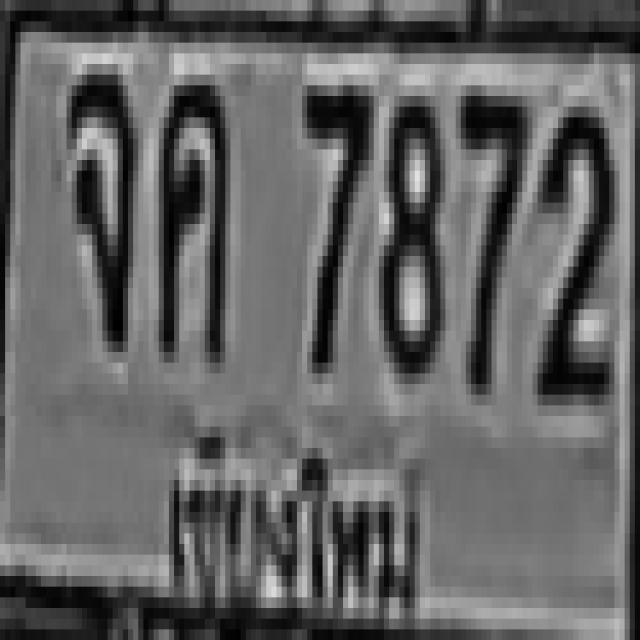13KhorKhwai: (154, 74, 227, 360)
17ChorChan: (64, 64, 134, 354)
2: (535, 104, 612, 402)
7: (458, 90, 524, 388), (303, 81, 369, 369)
8: (378, 90, 445, 378)
ChiangMai: (150, 413, 428, 628)
